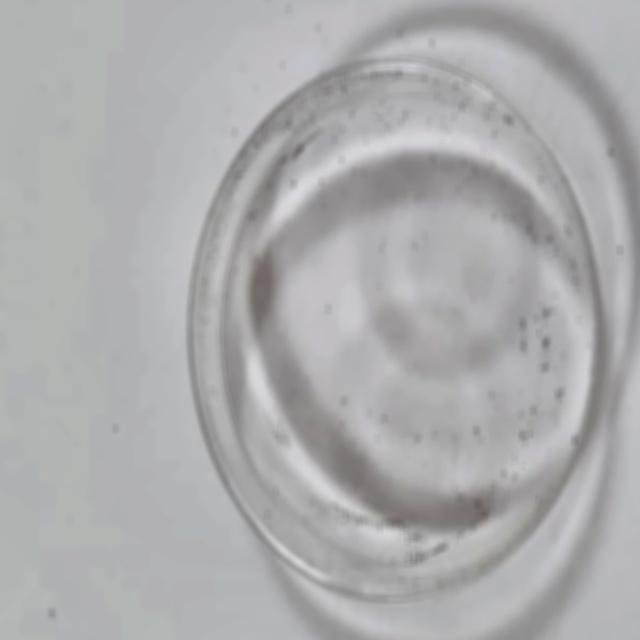Pedrish: (188, 66, 604, 604)
